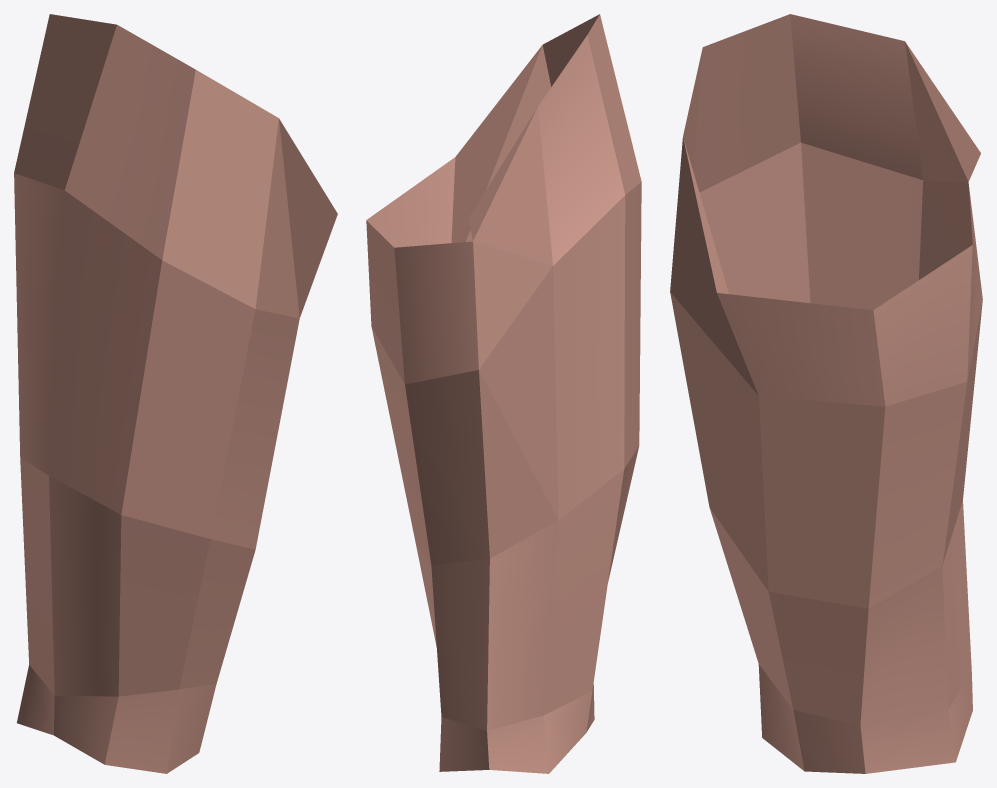
File: cutrmumrthigh.fbx
3 renders of one model, left to right at view 1: azimuth 30°, elevation 25°; view 2: azimuth 150°, elevation 25°; view 3: azimuth 270°, elevation 25°, orthographic. The views are drawn at different scales.
Visible parts, largest first — view 1: mum.023; view 2: mum.023; view 3: mum.023.
Boxes of the visible parts, x1,y1,x2,y2 form: mum.023: (14, 14, 337, 773); mum.023: (366, 14, 641, 773); mum.023: (670, 14, 982, 773).
Bounding box in the file's own units: 19.33 × 55.78 × 22.09.
